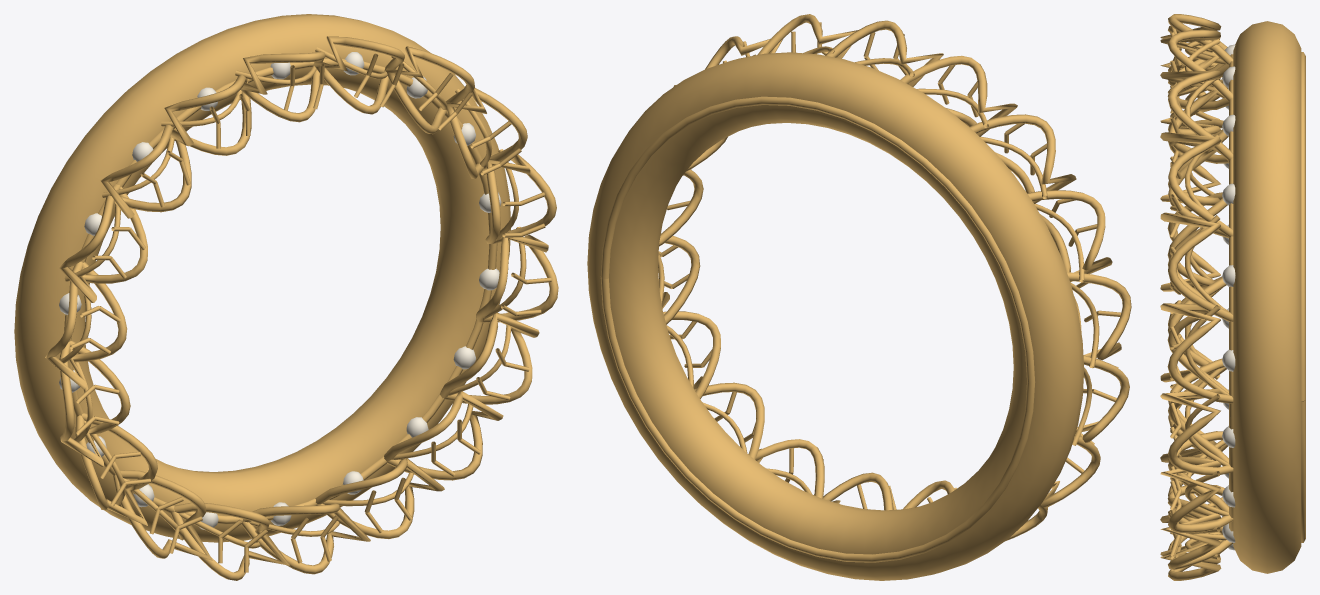
The model's file is bangle.glb.
3 renders of one model, left to right at view 1: azimuth 30°, elevation 25°; view 2: azimuth 150°, elevation 25°; view 3: azimuth 270°, elevation 25°, orthographic.
Parts seen in each view (by area): view 1: bangle; view 2: bangle; view 3: bangle.
Boxes of the visible parts, left/top/right/bottom form: bangle: left=14, top=14, right=558, bottom=580; bangle: left=587, top=14, right=1131, bottom=580; bangle: left=1160, top=14, right=1305, bottom=580.
Bounding box in the file's own units: 0.0746 × 0.0749 × 0.0193.
